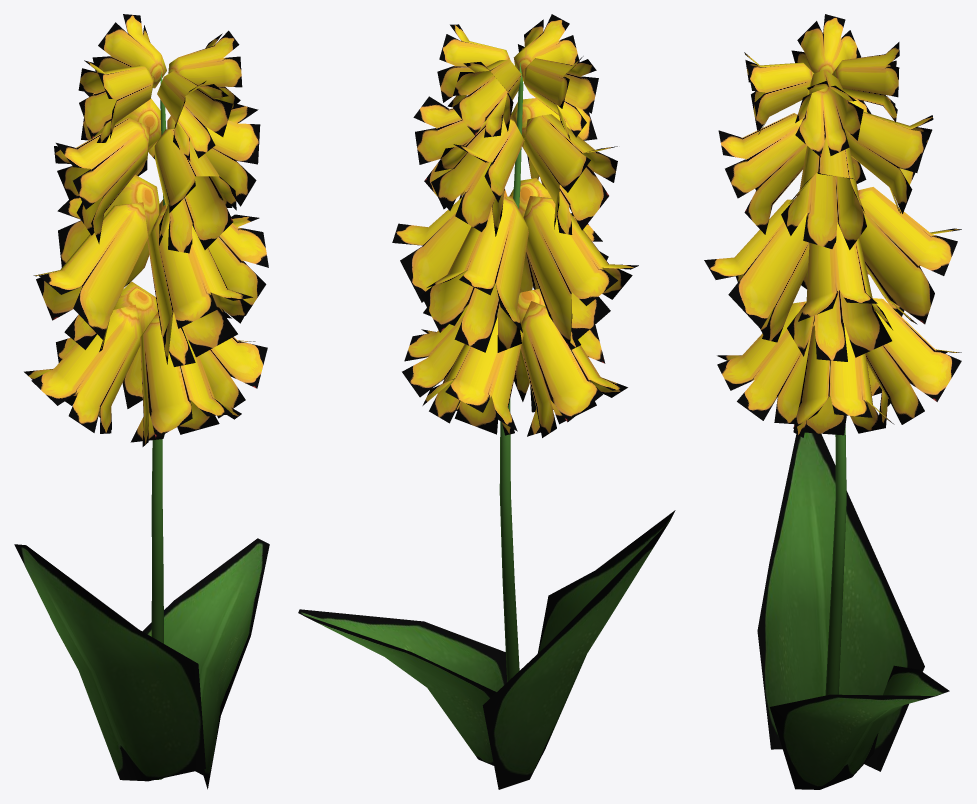
The model's file is flower_4_single.gltf.
3 views of the same model, side by side, from view 1: azimuth 30°, elevation 25°; view 2: azimuth 150°, elevation 25°; view 3: azimuth 270°, elevation 25° (orthographic).
Visible parts, largest first — view 1: Flower_4_Single; view 2: Flower_4_Single; view 3: Flower_4_Single.
Part boxes in pixels (<box>): Flower_4_Single: <box>14,14,269,789</box>; Flower_4_Single: <box>298,14,675,789</box>; Flower_4_Single: <box>704,14,961,789</box>.
Size of the model in its own units: 1.07 by 2.42 by 0.7729.
Materials: 2 (2 with a texture image).
